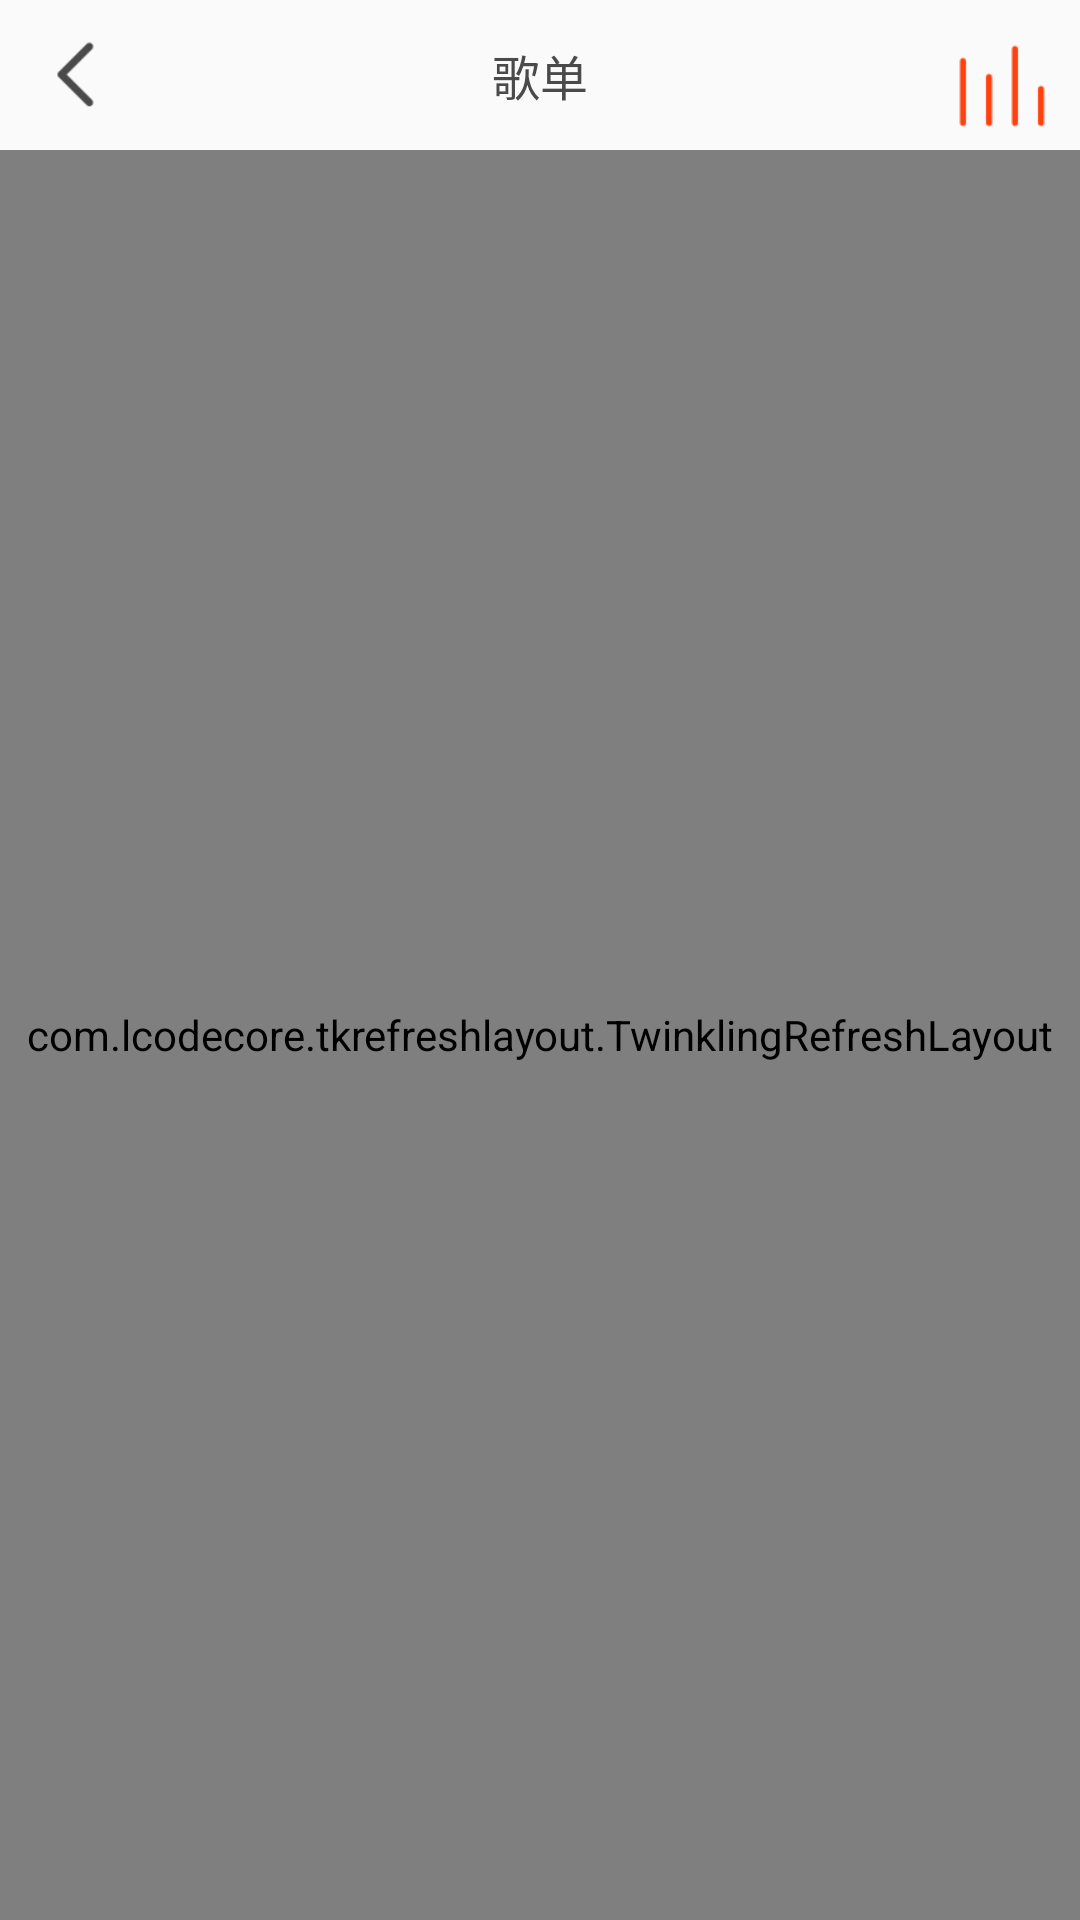

Named icons in this screenshot (1080w x 1920h) and their centers, (x=x, y=y):
equalizer: (x=1002, y=86)
lisong toleft: (x=75, y=74)
